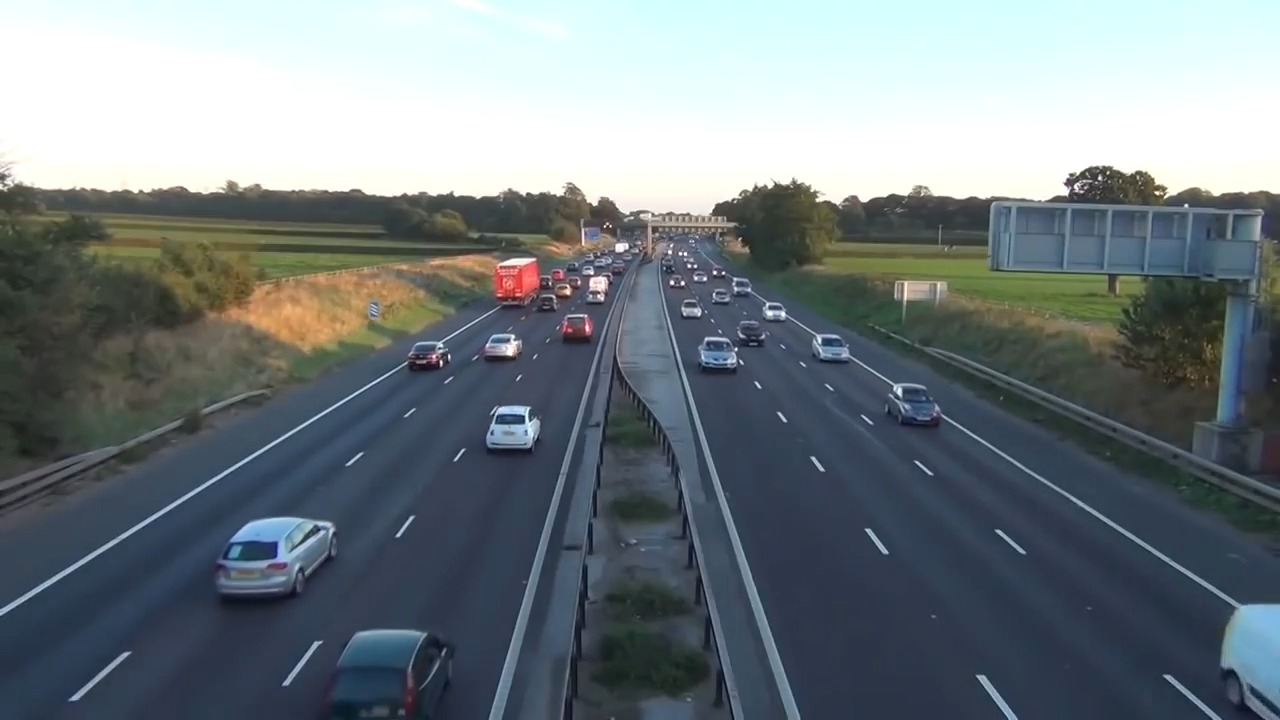truck: (490, 255, 544, 309)
